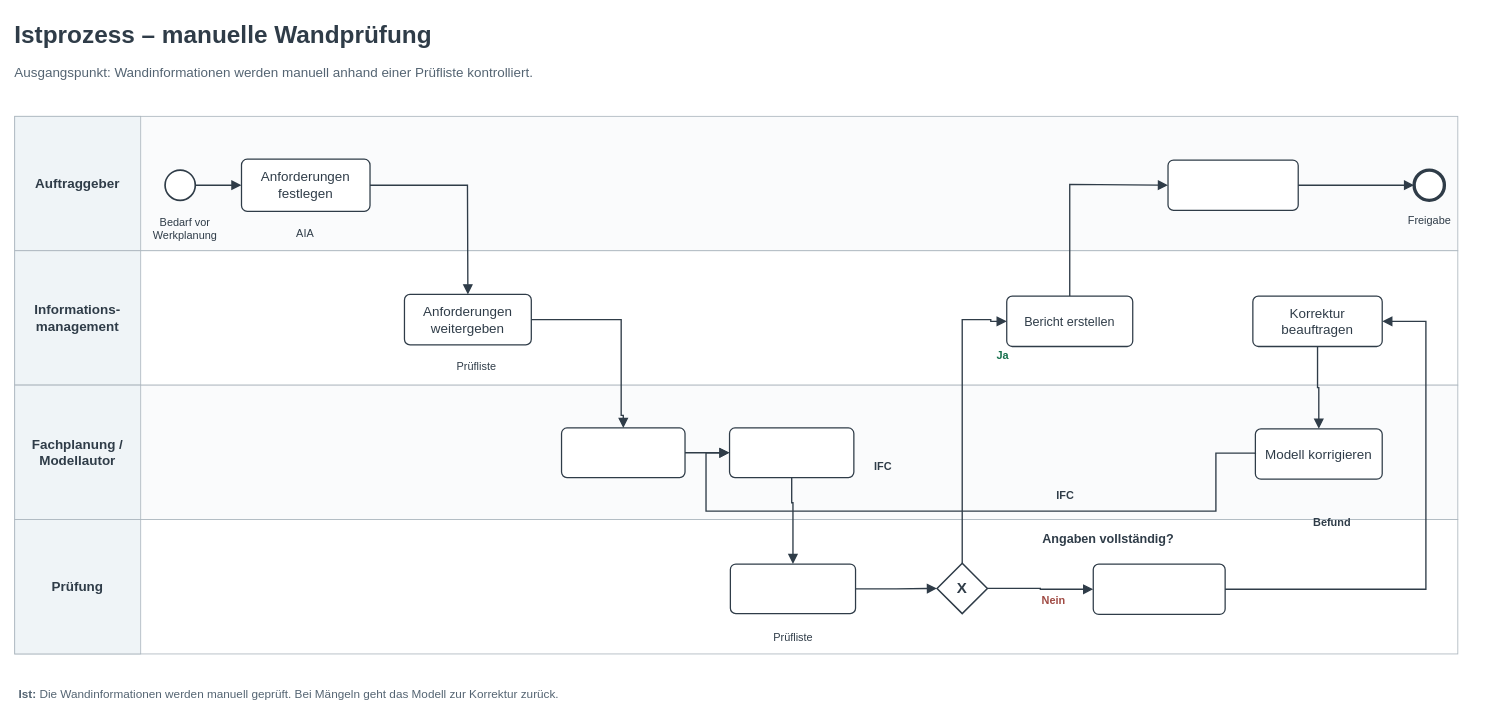
The diagram is 1488 pixels wide and 727 high, and some of its shapes have lost their labels. The shapes that lost their labels are listed below. From the top down, each one's centre as x and y in pixels, then its label:
At pixel 1232 185: "Modell freigeben".
At pixel 623 452: "Modell erstellen".
At pixel 791 452: "IFC übergeben".
At pixel 792 588: "Wände prüfen (manuell)".
At pixel 1158 589: "Befunde melden".
